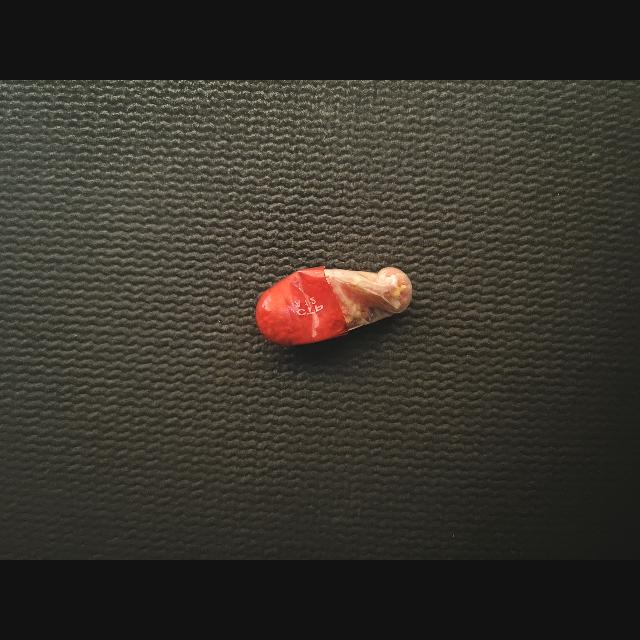Defective Capsule: (256, 266, 413, 345)
